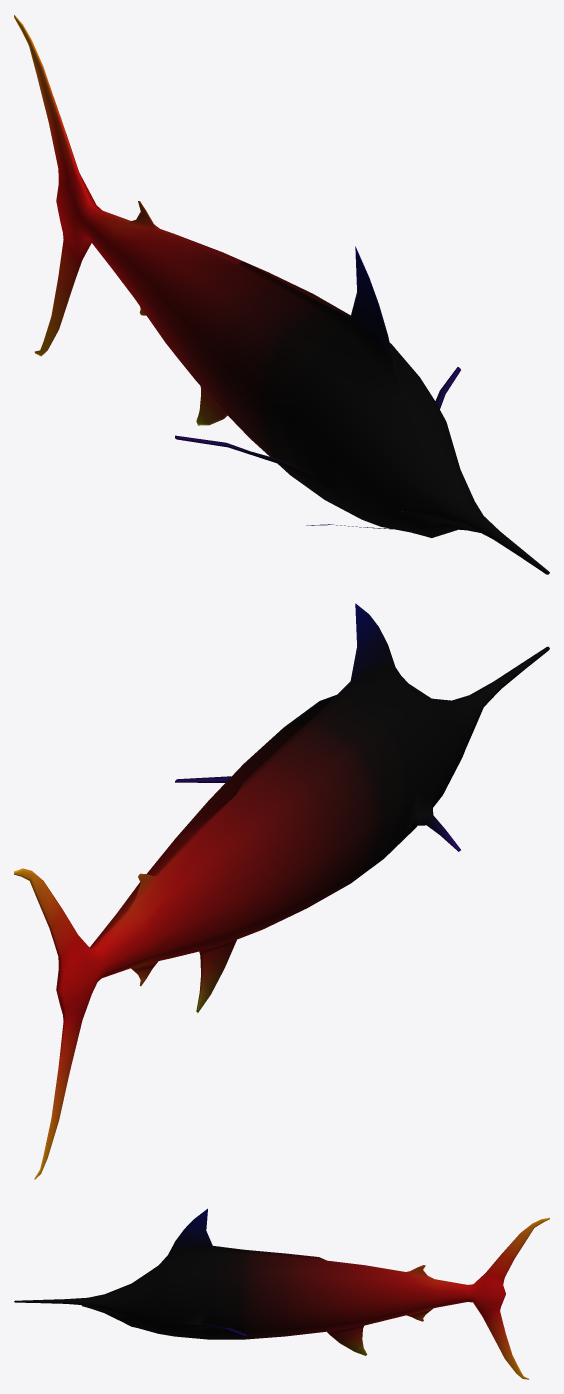
The picture shows the model from 3 angles, top to bottom: view 1: azimuth 30°, elevation 25°; view 2: azimuth 150°, elevation 25°; view 3: azimuth 270°, elevation 25°; orthographic projection. The views are drawn at different scales.
Parts seen in each view (by area): view 1: atlantic blue marlin final; view 2: atlantic blue marlin final; view 3: atlantic blue marlin final.
Boxes of the visible parts, x1,y1,x2,y2 form: atlantic blue marlin final: (14,15,549,574); atlantic blue marlin final: (14,603,549,1179); atlantic blue marlin final: (14,1208,549,1379).
Size of the model in its own units: 1.29 by 1.48 by 4.19.
